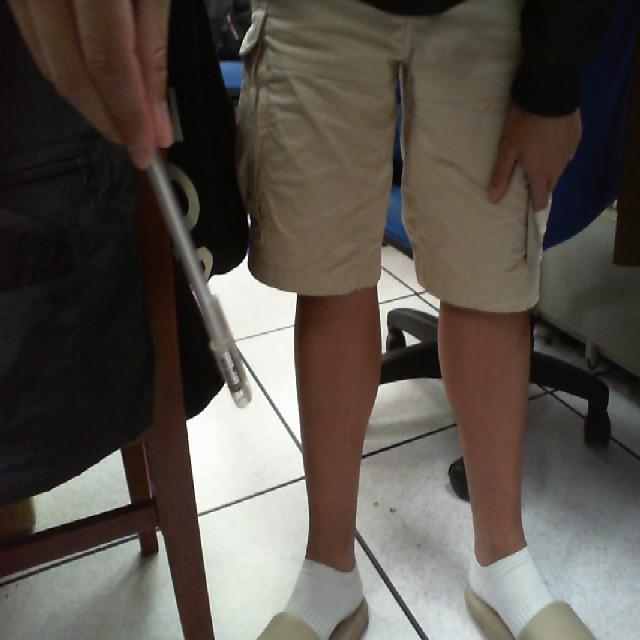Pen: (145, 100, 275, 472)
